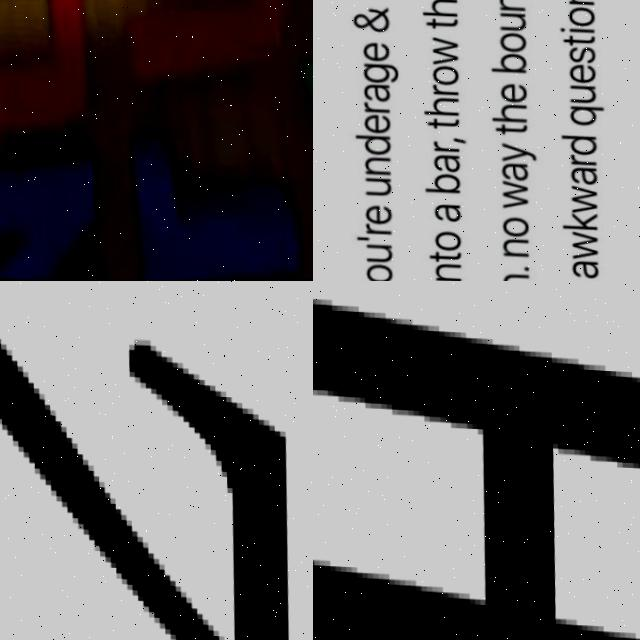2: (0, 281, 310, 640)
A: (357, 84, 389, 104), (425, 154, 455, 174), (493, 162, 523, 182), (426, 204, 456, 223), (563, 260, 593, 279), (562, 167, 592, 186)
B: (416, 173, 456, 194), (487, 53, 524, 75)
D: (347, 134, 386, 155), (554, 136, 592, 157)
E: (357, 205, 387, 225), (357, 42, 387, 62), (562, 65, 592, 84), (357, 115, 385, 134), (494, 84, 522, 103)
G: (357, 63, 395, 84)
H: (313, 282, 640, 640), (417, 97, 455, 118), (485, 104, 522, 123), (417, 0, 454, 17)
I: (555, 28, 591, 34)
K: (555, 213, 593, 231)
N: (357, 157, 385, 176), (494, 239, 522, 258), (426, 264, 454, 281), (494, 0, 522, 12), (494, 273, 522, 281), (563, 0, 591, 6)
O: (0, 0, 93, 139), (426, 231, 456, 254), (494, 217, 522, 239), (563, 6, 591, 28), (494, 33, 522, 54), (426, 65, 454, 85), (358, 264, 386, 281)
Q: (562, 106, 600, 127)
R: (426, 140, 454, 154), (357, 101, 385, 114), (358, 224, 385, 235), (563, 156, 590, 167), (427, 84, 453, 95)
S: (563, 47, 591, 64)
T: (421, 118, 454, 131), (489, 124, 522, 137), (421, 252, 454, 264), (421, 18, 453, 30), (558, 36, 590, 48)
U: (93, 0, 291, 96), (358, 244, 386, 264), (357, 178, 385, 198), (494, 13, 522, 32), (563, 86, 591, 105)
W: (425, 36, 456, 65), (493, 181, 522, 211), (563, 232, 593, 261), (563, 186, 591, 213)
Y: (495, 144, 533, 165)
